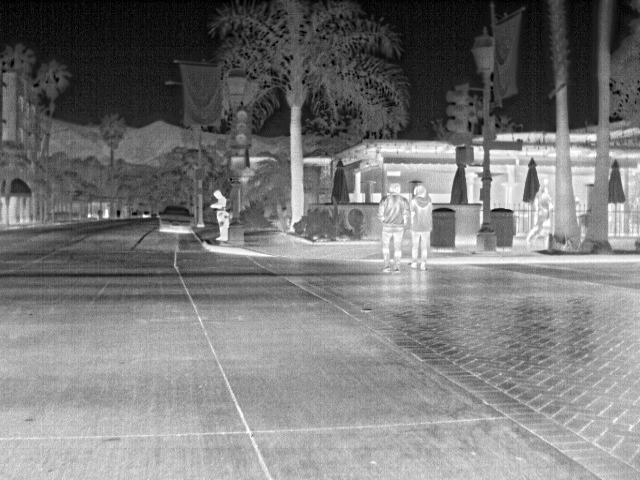car: (154, 204, 197, 234)
person: (378, 181, 409, 273), (406, 183, 436, 268), (525, 189, 553, 244), (208, 188, 234, 244)
